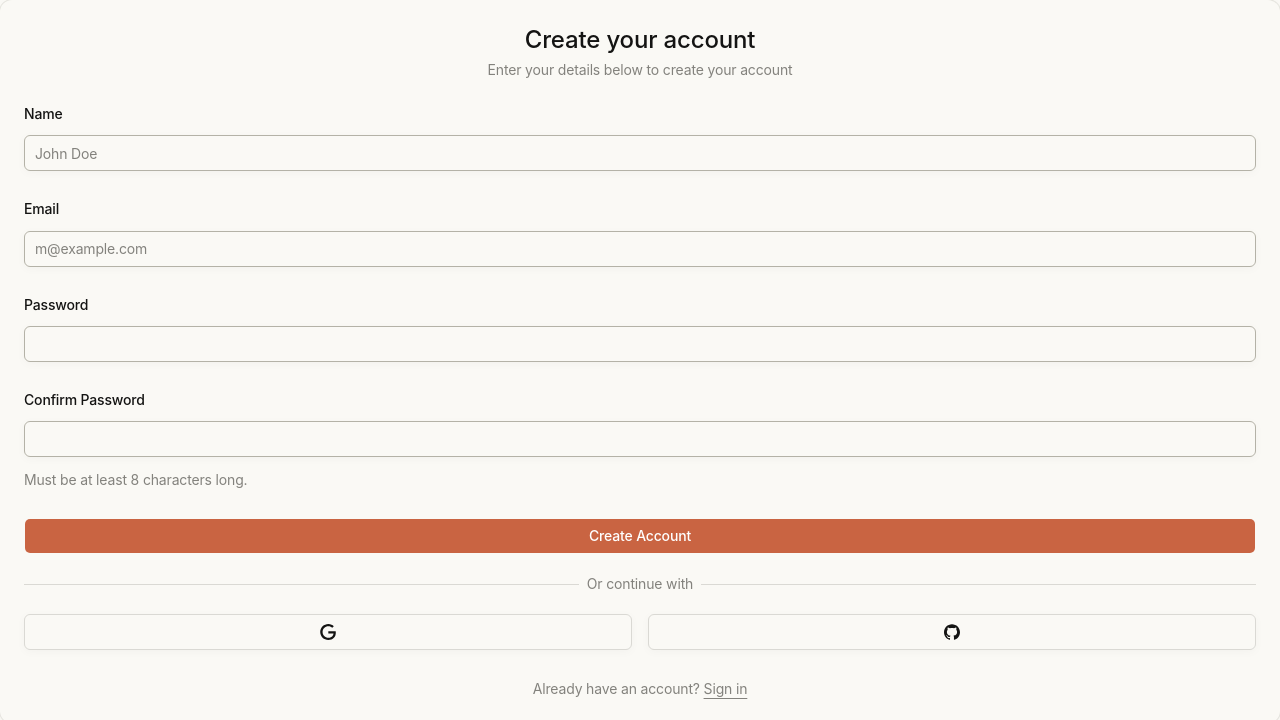
Scenario: SignupForm › error handling › should show API error message when signup fails
Type "Test User" into the field labelled "Name" at (640, 153), box [24,135,1256,171]
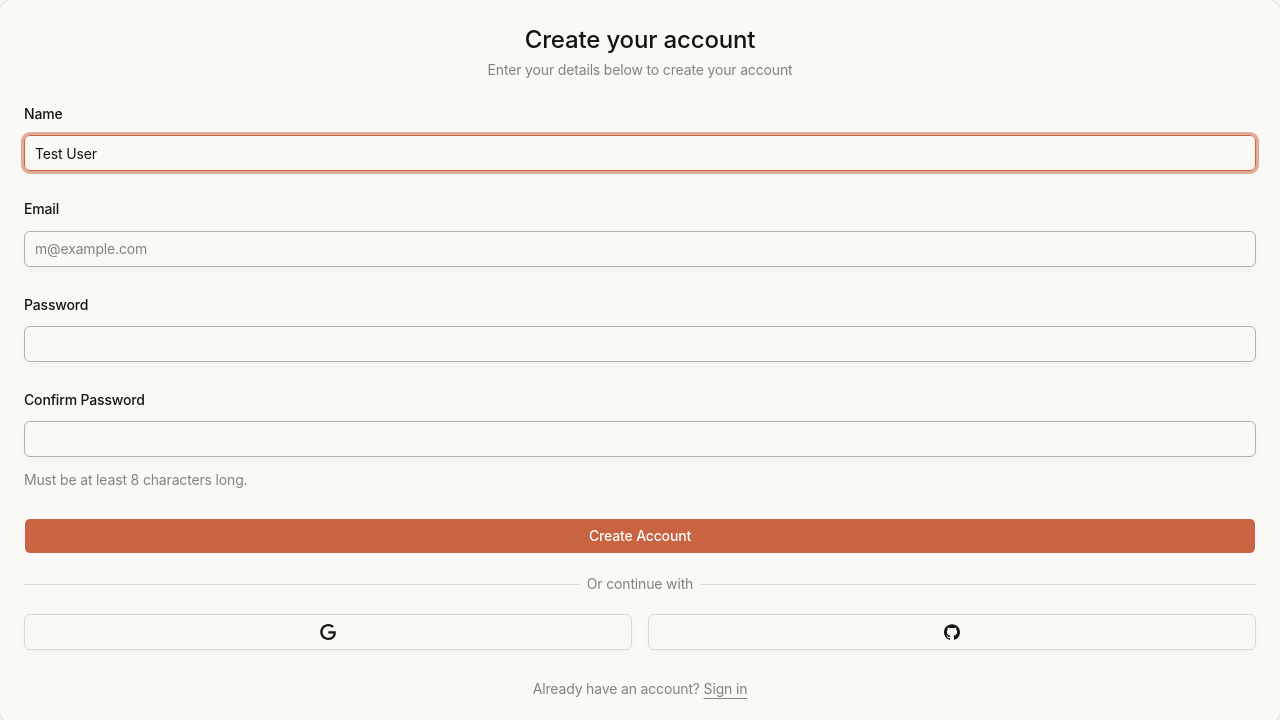
Type "test@example.com" into the field labelled "Email" at (640, 248), box [24,230,1256,266]
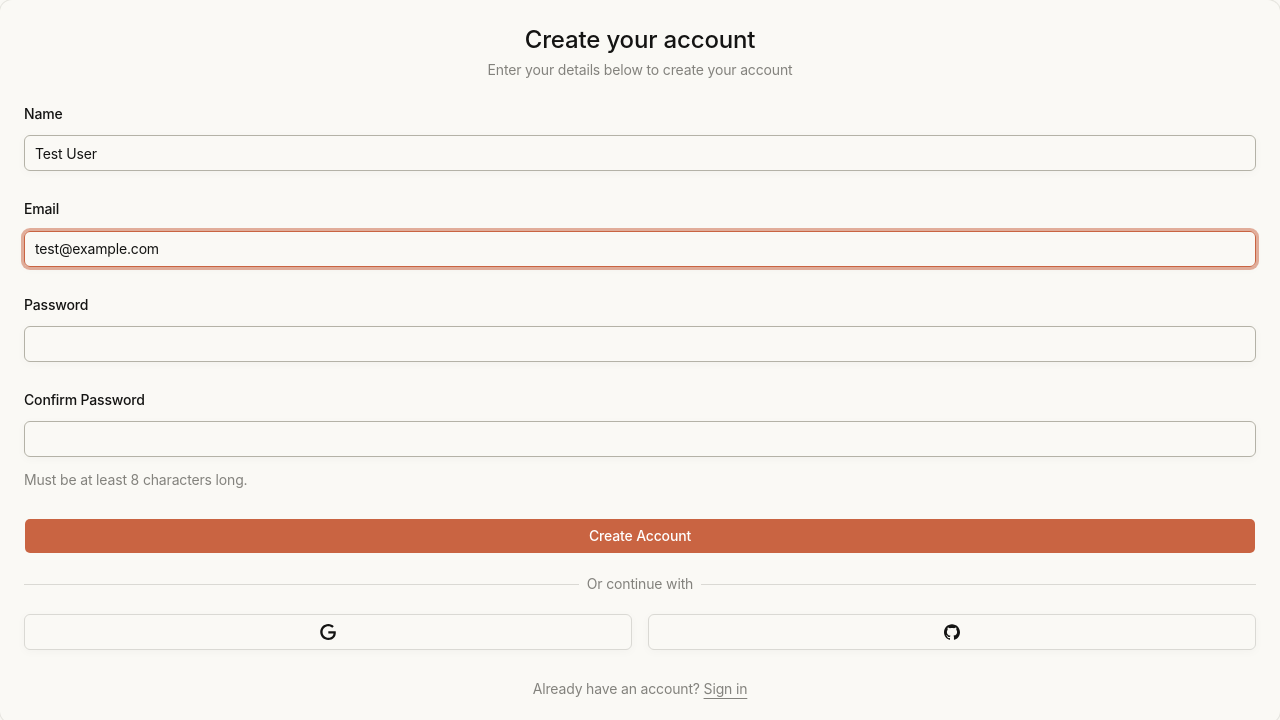
Type "password123" into the password field labelled "Password" at (640, 344), box [24,326,1256,362]
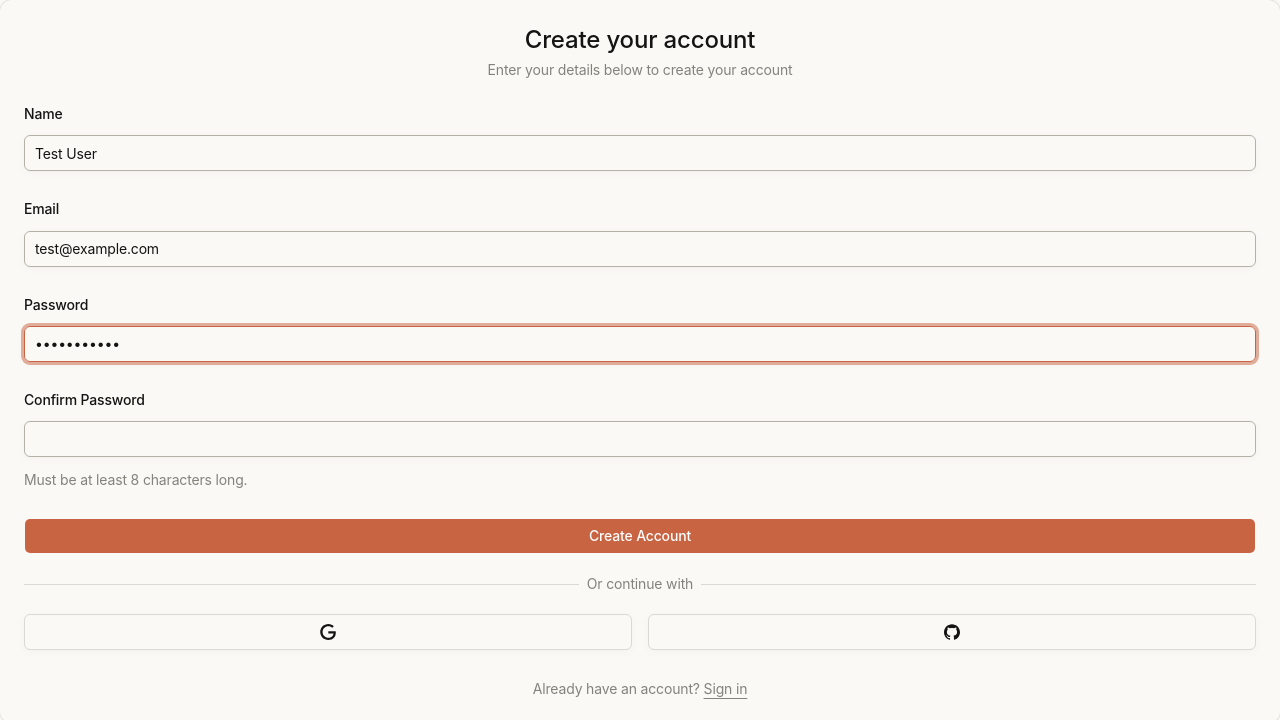
Type "password123" into the password field labelled "Confirm Password" at (640, 439), box [24,421,1256,457]
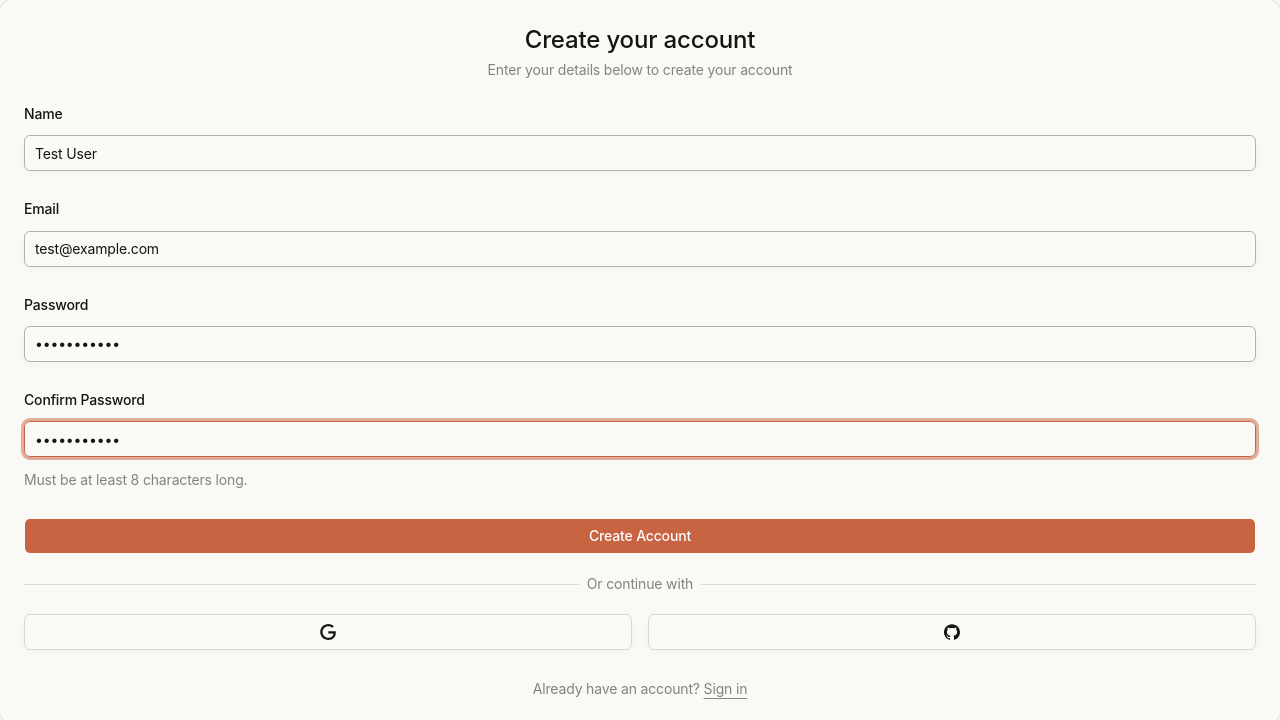
Click the button "Create Account" at (640, 536), box [24,518,1256,554]
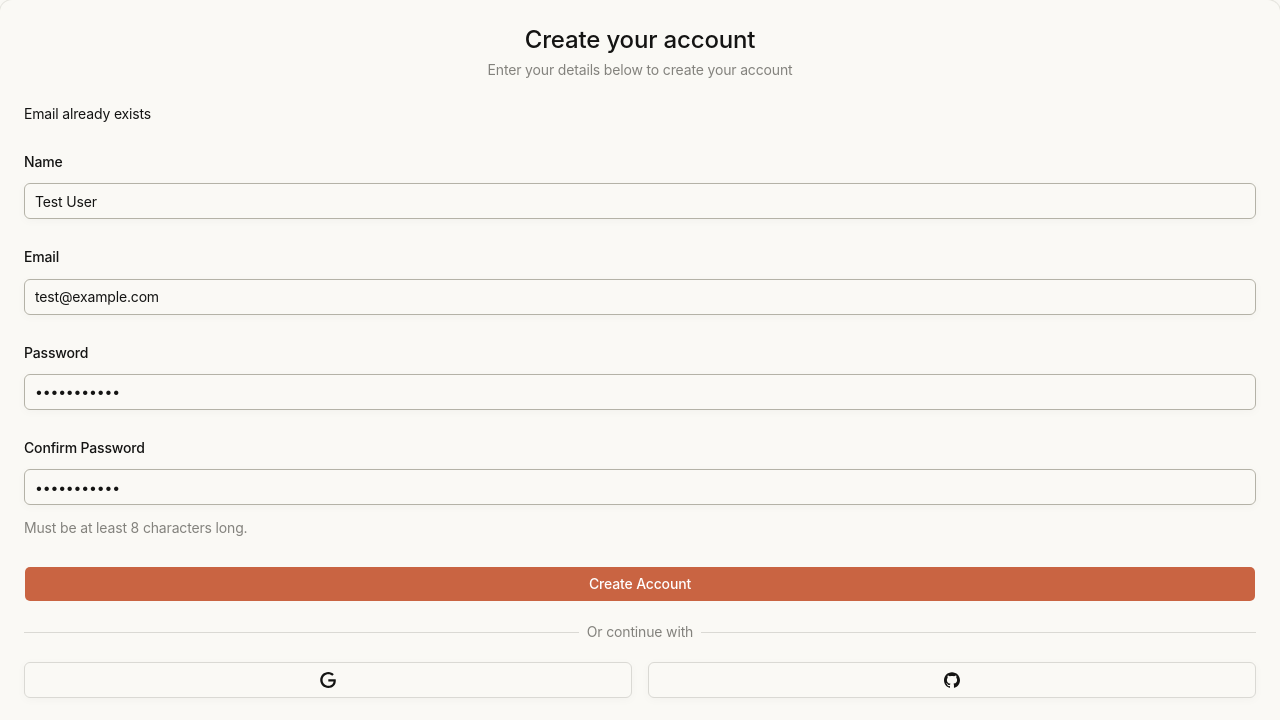
Expected: the message reads "Email already exists", [24,105,151,122]
